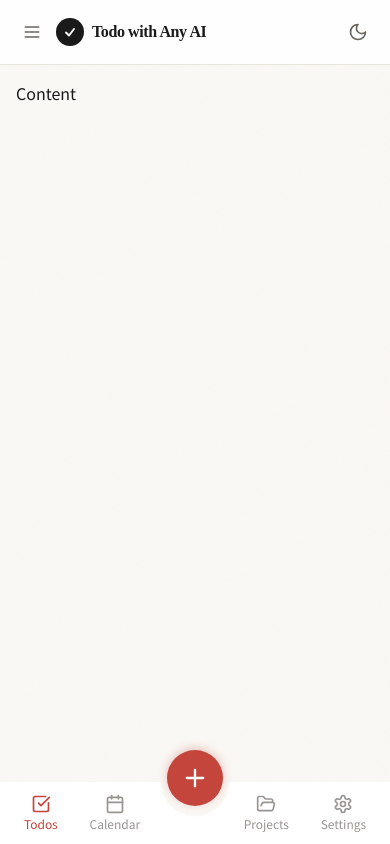
it: AppLayout - Sidebar integration › should toggle sidebar open when hamburger is clicked
The width and height of the screenshot is (390, 844).
What coordinates should you click on to do the following:
click the button with test id "hamburger-button"
I would click on:
 (32, 32)
Its box is [16,16,48,48].
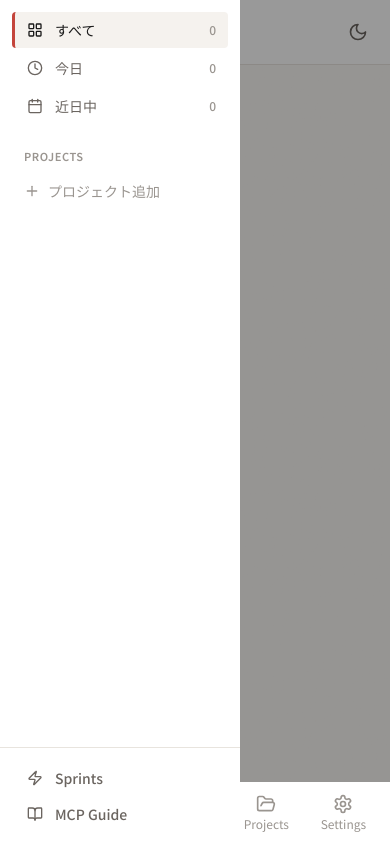
Result: the element with test id "sidebar-backdrop" is shown
